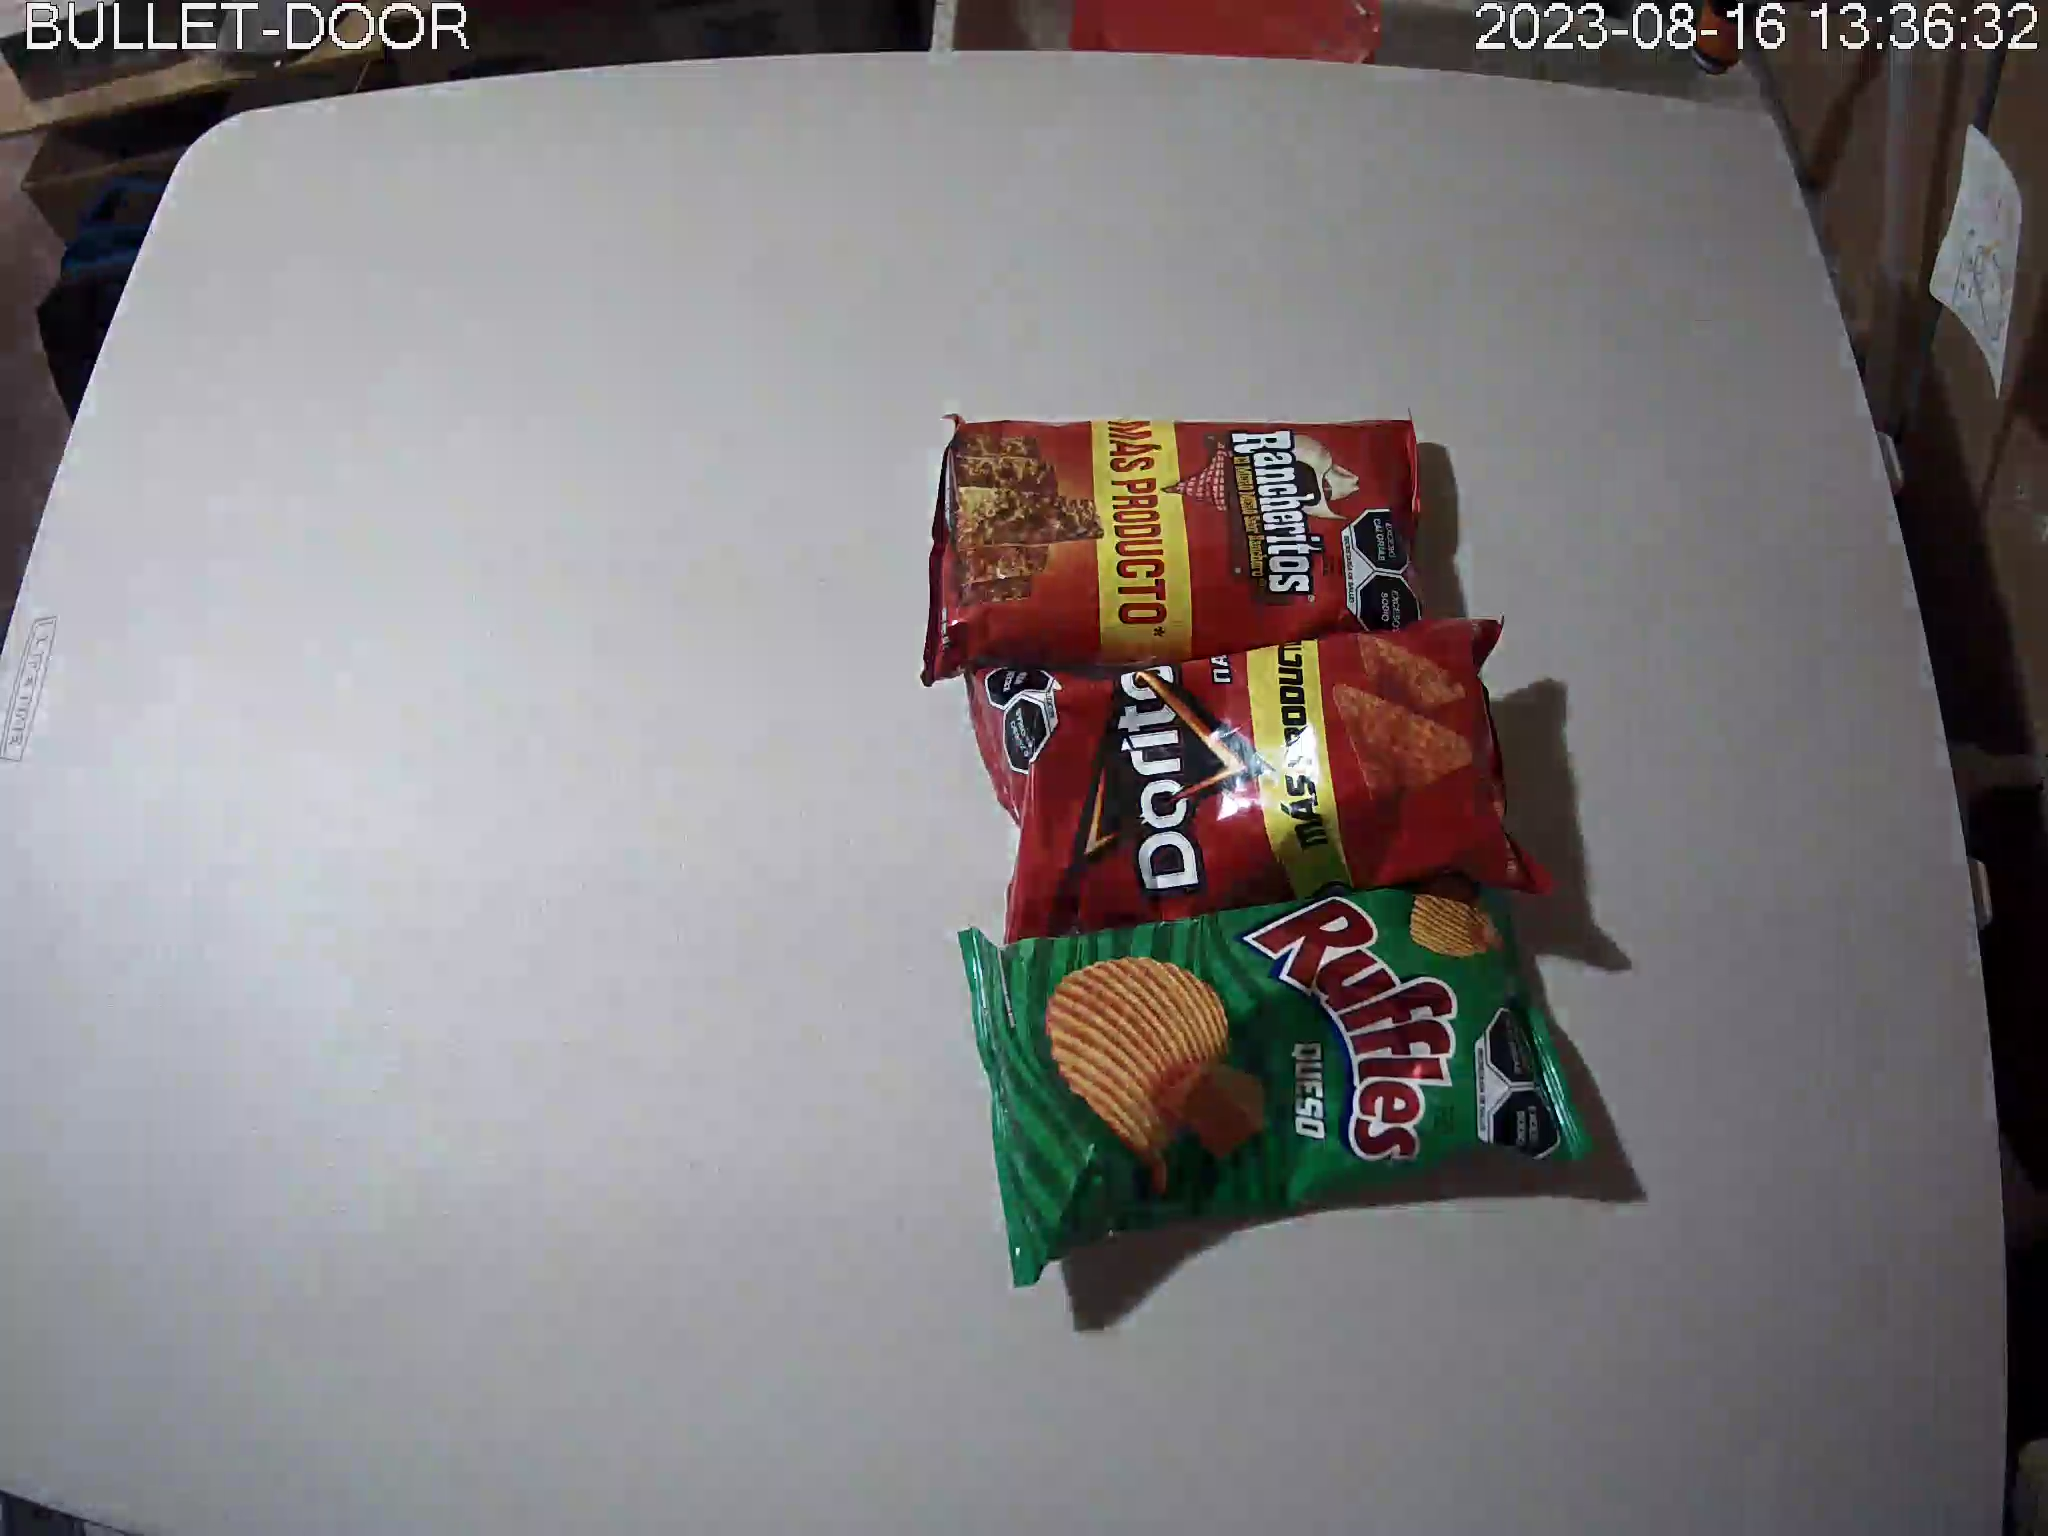DoritosN_61_F: (968, 616, 1559, 947)
Rancheritos_58_F: (922, 410, 1435, 686)
RufflesQ_48_F: (956, 871, 1605, 1288)
